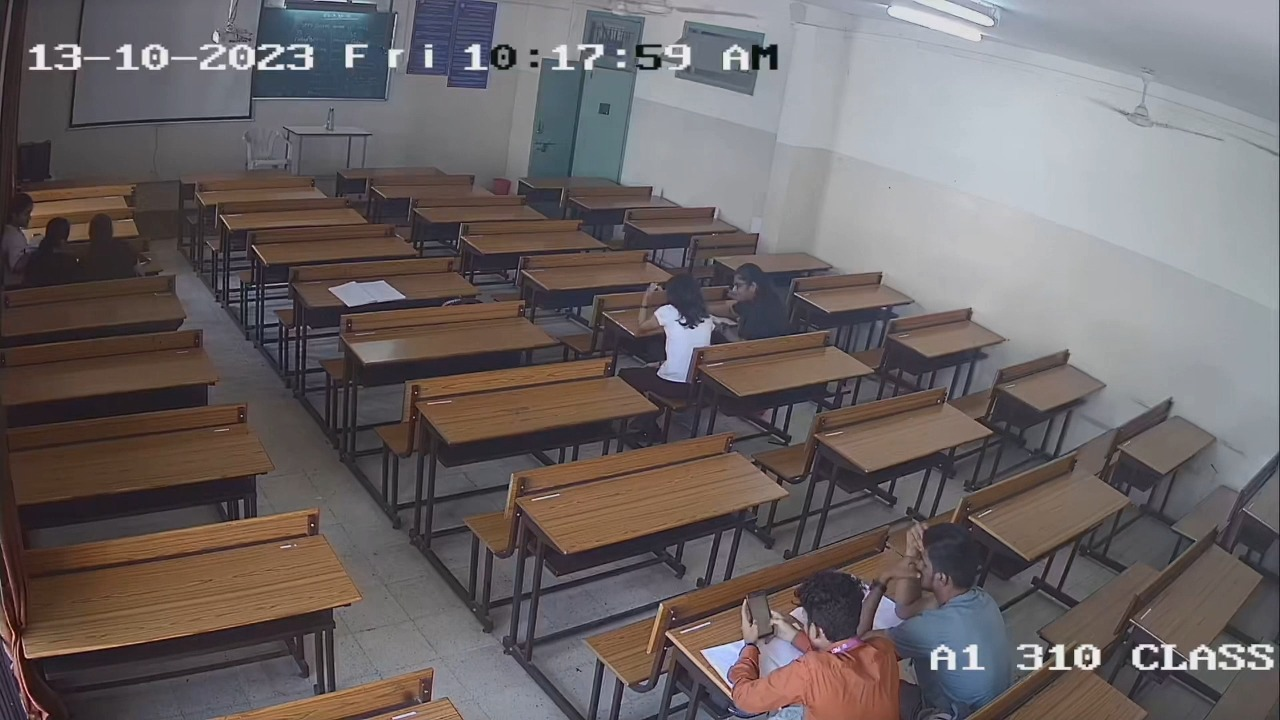cell-phones: (741, 586, 777, 641)
person: (736, 568, 899, 720)
